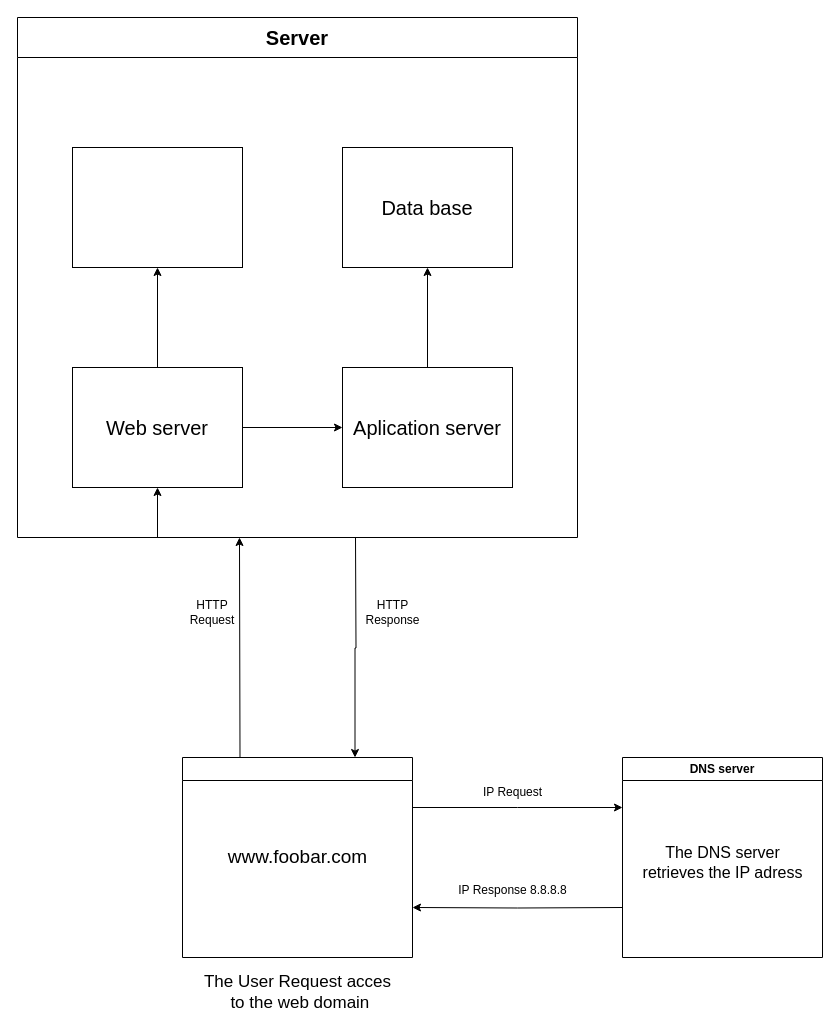
Image size: 840x1035. Some labels were removed from this diagram. The box of each missing label's shape, as (x1, y1, x2, y2) in pixels:
Client: (182, 756, 412, 958)
Code Base: (72, 146, 242, 268)
